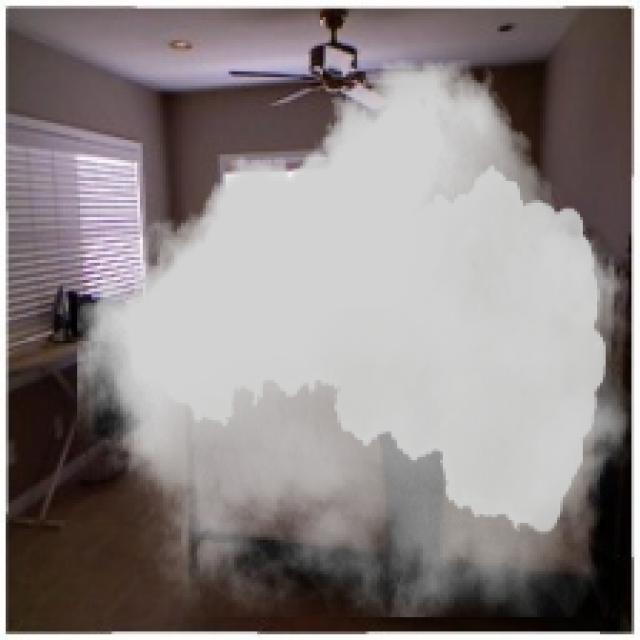smoke: (77, 60, 632, 617)
